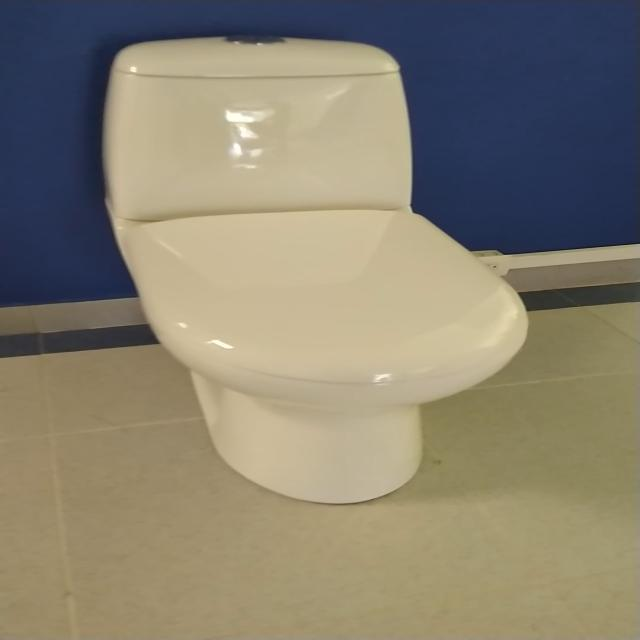toilet: (95, 30, 536, 512)
